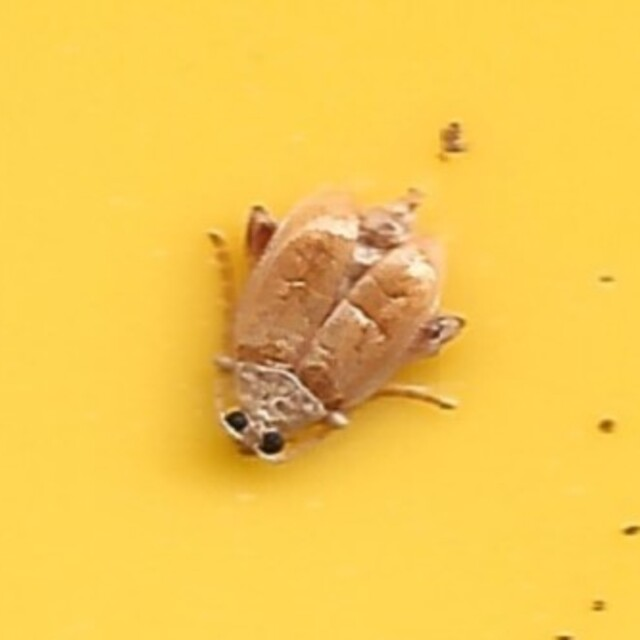Coleoptera: (192, 183, 448, 457)
